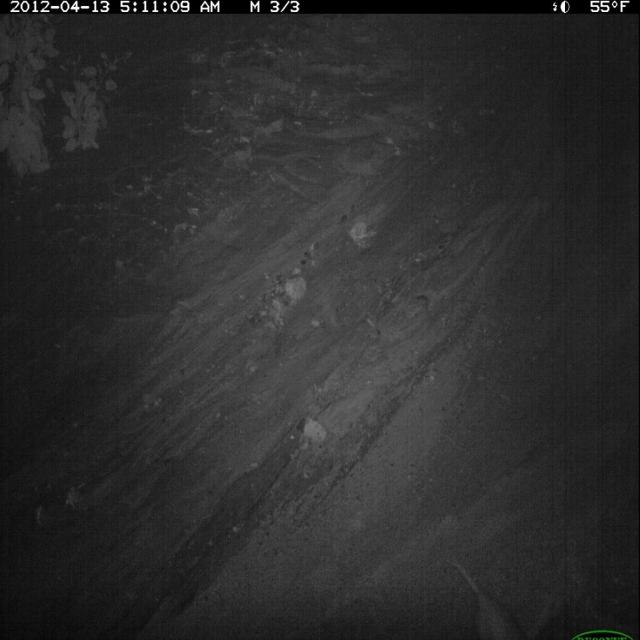opossum: (440, 549, 549, 640)
